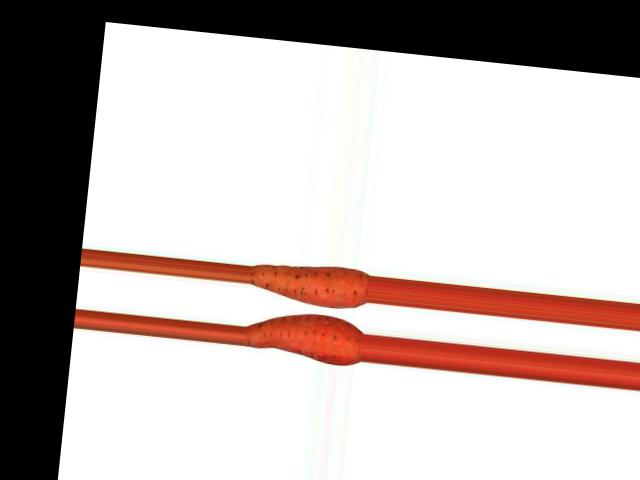sweet_potato: (251, 259, 371, 312)
